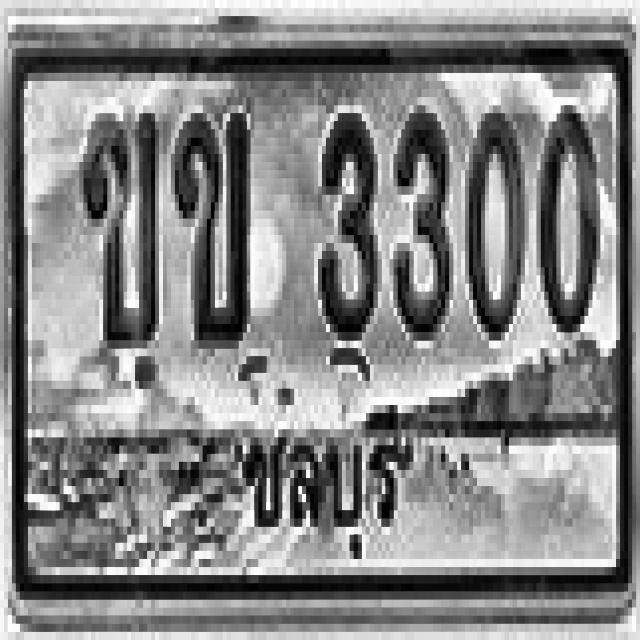license-plate: (12, 44, 631, 619)
